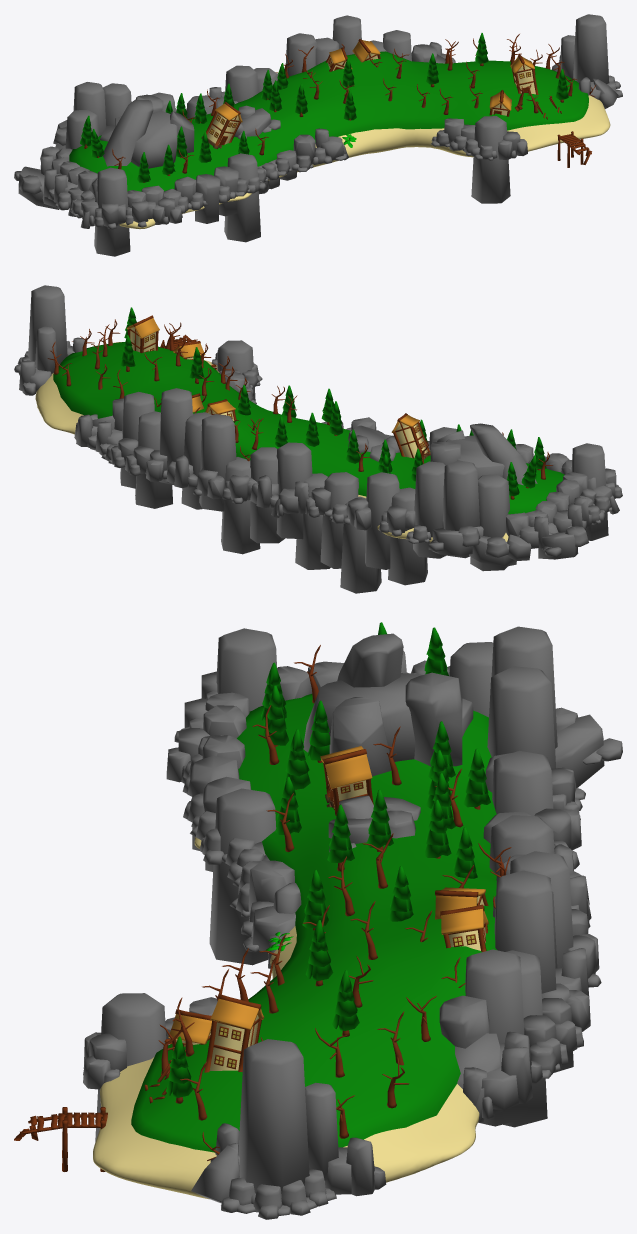
Rendered from Zone2_Wrecked_outpost.fbx.
3 views of the same model, one above another, from view 1: azimuth 30°, elevation 25°; view 2: azimuth 150°, elevation 25°; view 3: azimuth 270°, elevation 25° (orthographic). The views are drawn at different scales.
Parts seen in each view (by area): view 1: Wrecked_outpost; view 2: Wrecked_outpost; view 3: Wrecked_outpost.
Part boxes in pixels (<box>): Wrecked_outpost: <box>14,14,622,256</box>; Wrecked_outpost: <box>14,285,622,593</box>; Wrecked_outpost: <box>14,622,622,1219</box>.
Size of the model in its own units: 25158 by 5917 by 11963.
